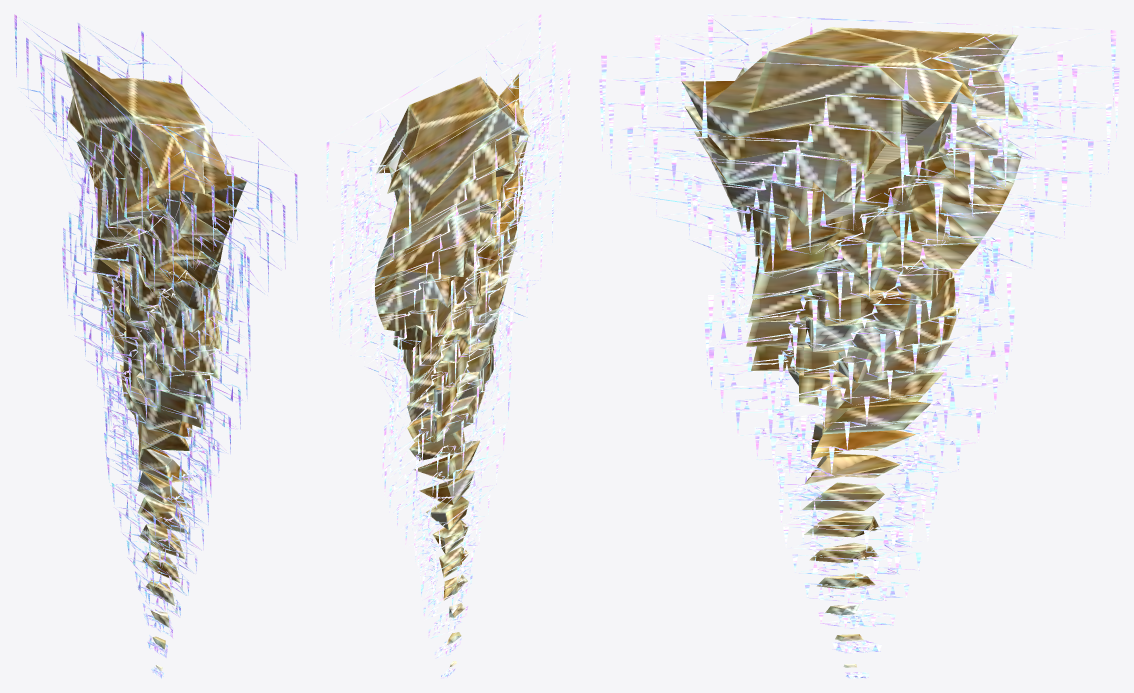
File: Drill.glb
The picture shows the model from 3 angles, left to right: view 1: azimuth 30°, elevation 25°; view 2: azimuth 150°, elevation 25°; view 3: azimuth 270°, elevation 25°; orthographic projection. The views are drawn at different scales.
Parts seen in each view (by area): view 1: Drill, Cube; view 2: Drill, Cube; view 3: Drill, Cube.
Part boxes in pixels (bbox=[...]): Drill: bbox=[61, 49, 246, 670]; Cube: bbox=[14, 14, 297, 678]; Drill: bbox=[375, 74, 529, 666]; Cube: bbox=[326, 14, 570, 678]; Drill: bbox=[681, 27, 1022, 667]; Cube: bbox=[599, 14, 1119, 678].
Bounding box in the file's own units: 2.15 × 10.15 × 7.54.
Materials: 2 (1 with a texture image).
